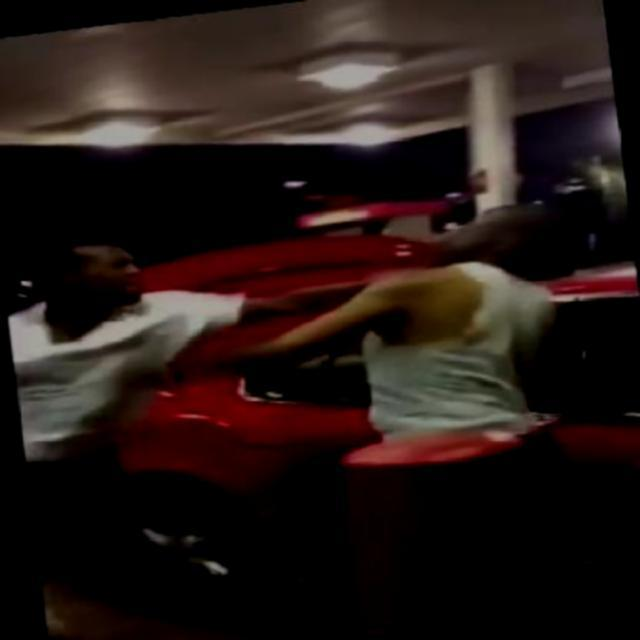fight: (0, 176, 577, 487)
